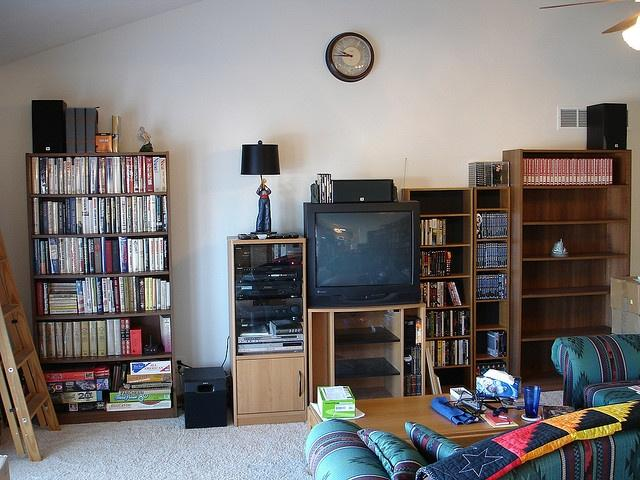AIO PC-Monitor-TV: (304, 201, 419, 305)
Rak: (24, 149, 177, 424), (517, 148, 632, 338), (406, 187, 472, 396), (471, 185, 509, 371)
